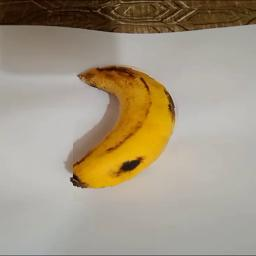Banana Semifresh: (74, 62, 182, 202)
